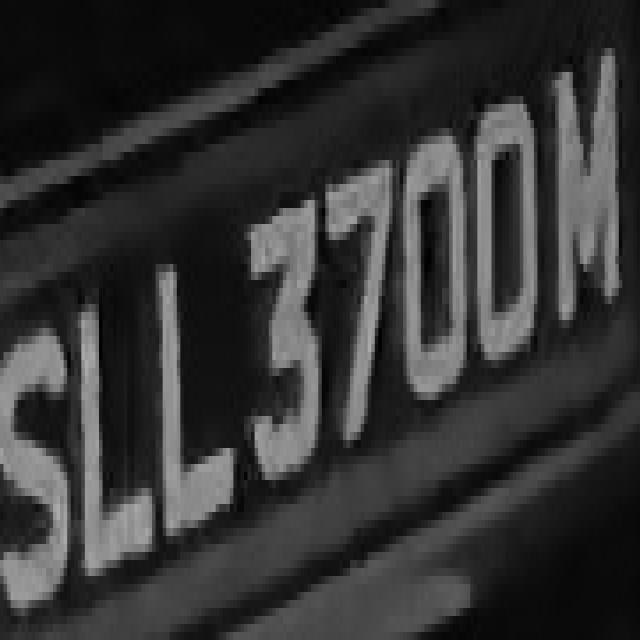0: (389, 120, 470, 400), (474, 88, 541, 392)
3: (237, 168, 329, 504)
7: (308, 144, 396, 488)
L: (148, 240, 244, 552), (78, 264, 156, 592)
M: (548, 56, 629, 368)
S: (0, 288, 71, 632)
